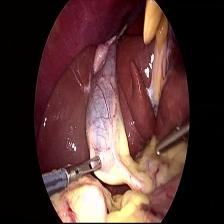Grasper: (73, 150, 103, 188)
